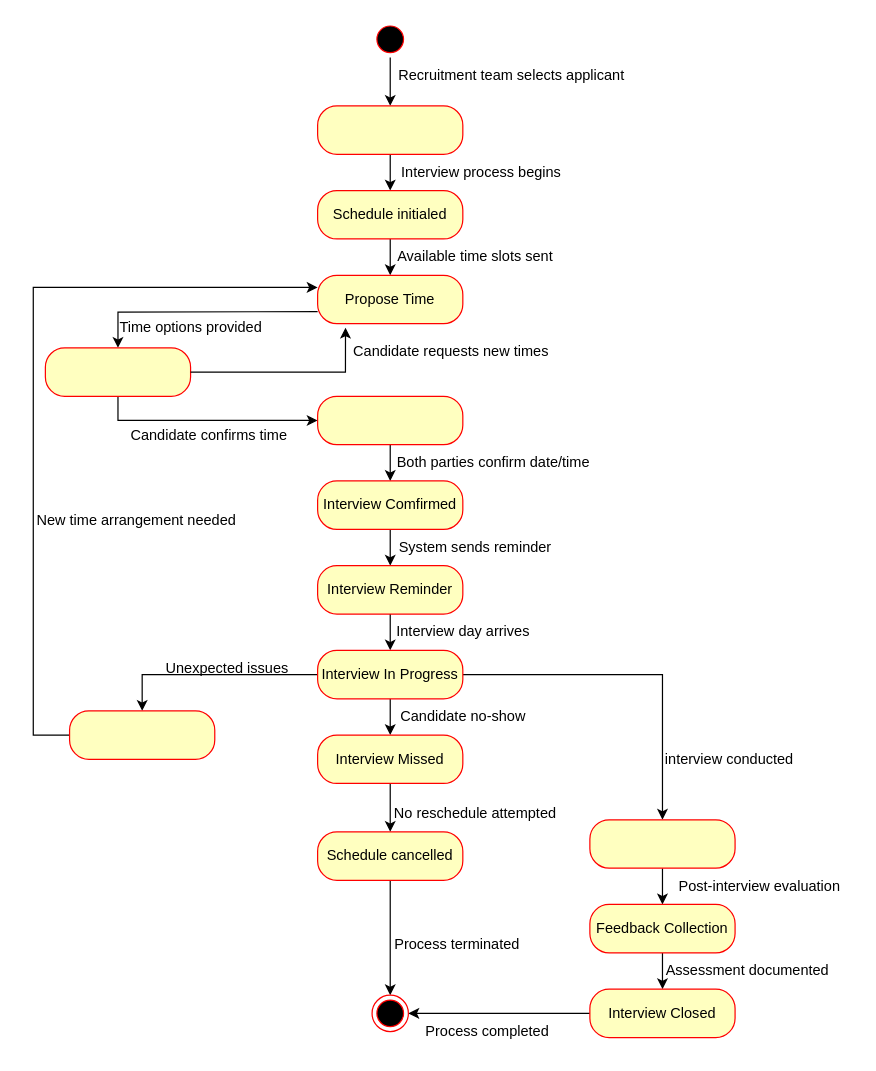
This 876x1071 diagram has some shape labels left out. Here are the shapes that lost their labels. From the top down, the centre of each, then its label:
At (x=389, y=129): "Select Candidate".
At (x=117, y=371): "Awaiting Candidate Response".
At (x=389, y=420): "Interview Schedule".
At (x=141, y=734): "Interview Rescheduled".
At (x=662, y=843): "Interview Completed".
